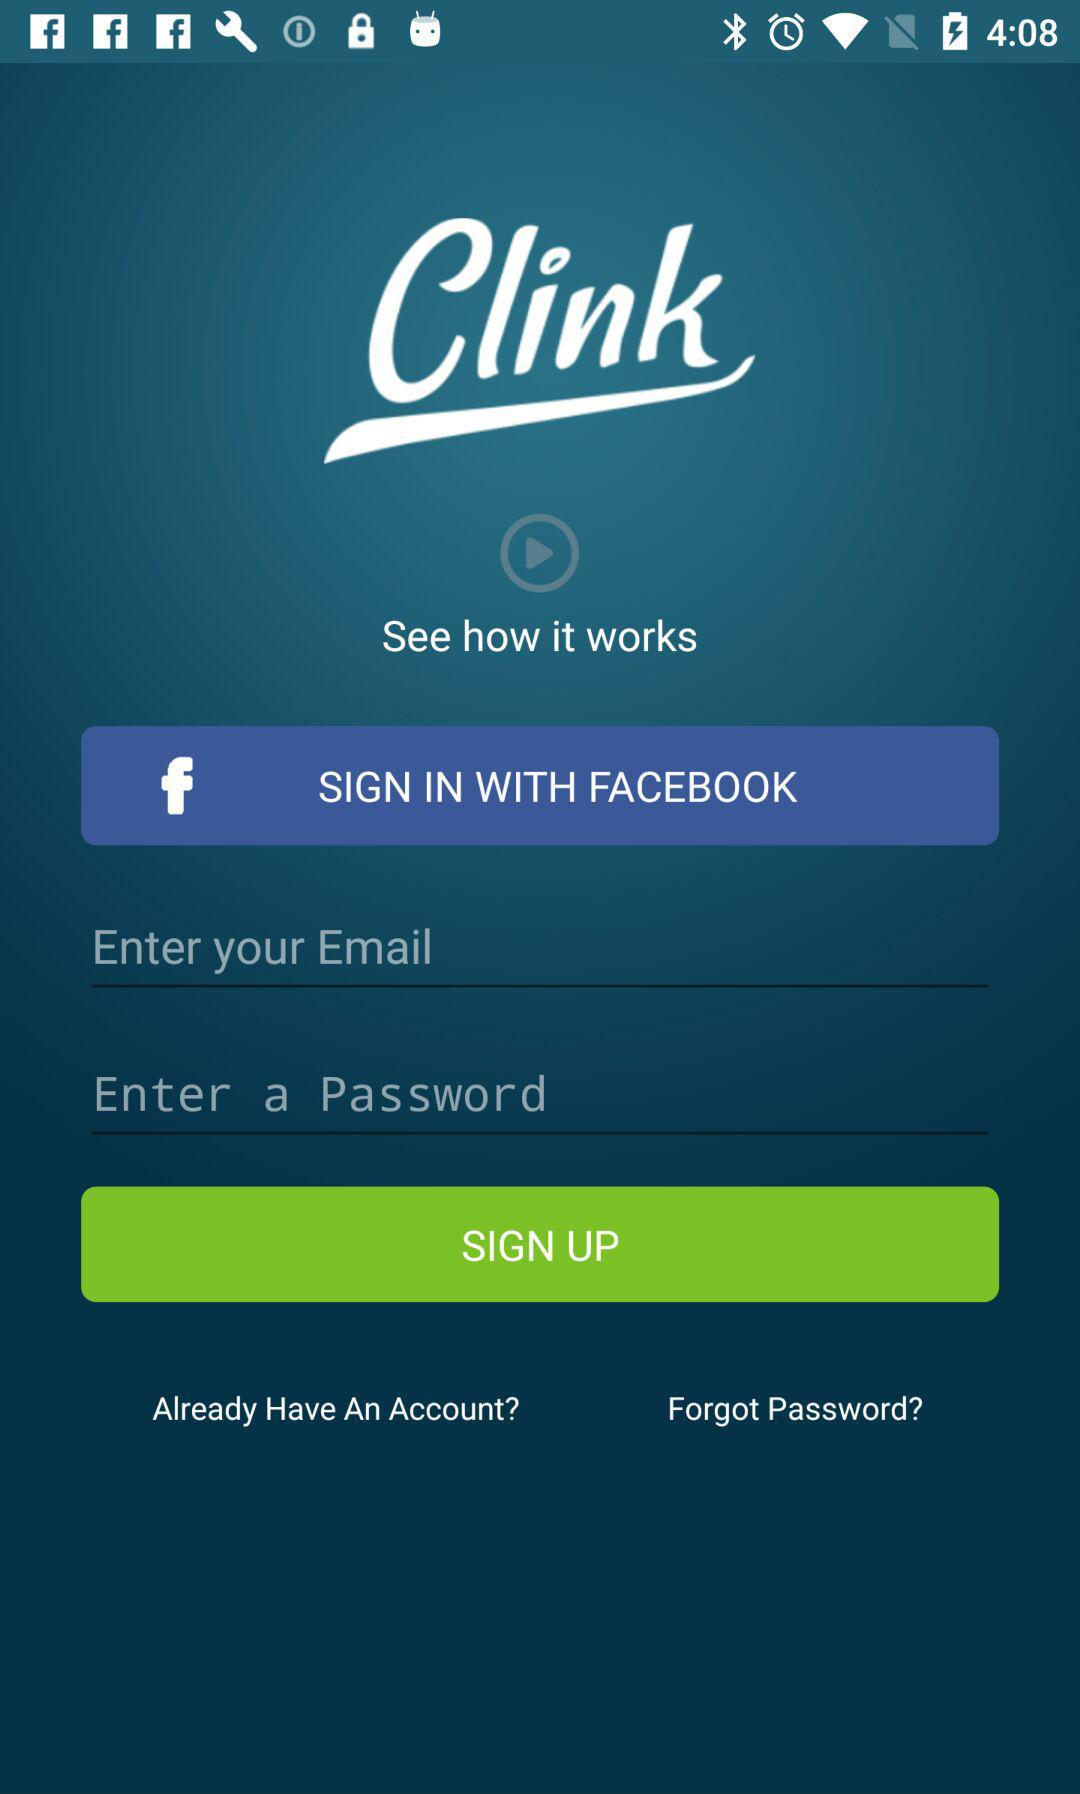EditText: (91, 1074, 990, 1137), (92, 926, 990, 989)
Icon: (498, 513, 582, 595)
Image: (322, 217, 758, 466)
Text: (96, 1074, 546, 1114), (96, 929, 432, 976), (152, 1394, 521, 1429), (382, 618, 698, 654), (669, 1395, 922, 1428)
TextButton: (81, 727, 1001, 847), (81, 1187, 1001, 1303)
UpperTaskBar: (1, 1, 1080, 64)
